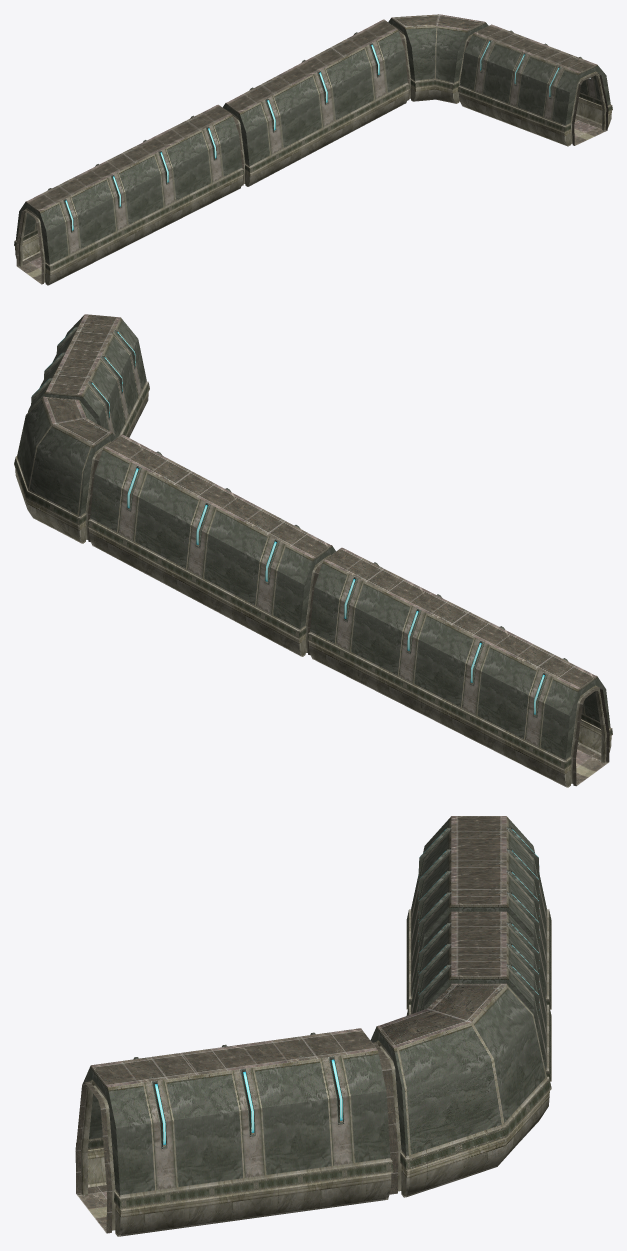
Rendered from thm_yavn_jedi_enclave_light_r14_tier3hall2_mesh_r14.fbx.
3 views of the same model, one above another, from view 1: azimuth 30°, elevation 25°; view 2: azimuth 150°, elevation 25°; view 3: azimuth 270°, elevation 25° (orthographic). The views are drawn at different scales.
Parts seen in each view (by area): view 1: mesh_node; view 2: mesh_node; view 3: mesh_node.
Boxes of the visible parts, bbox=[...] form: mesh_node: bbox=[14, 14, 612, 285]; mesh_node: bbox=[14, 314, 612, 787]; mesh_node: bbox=[75, 816, 551, 1236].
Bounding box in the file's own units: 25.97 × 8.17 × 10.83.
Materials: 3 (3 with a texture image).
